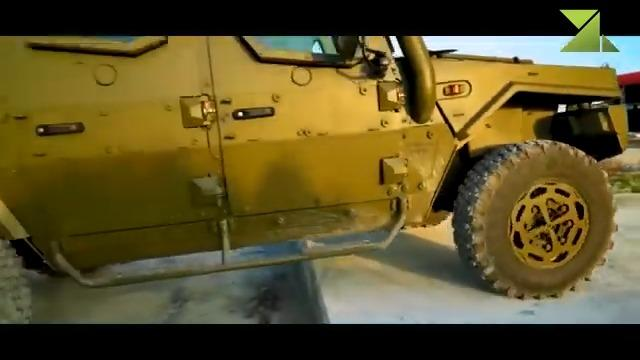MIL_HMMWV: (0, 35, 640, 325)
